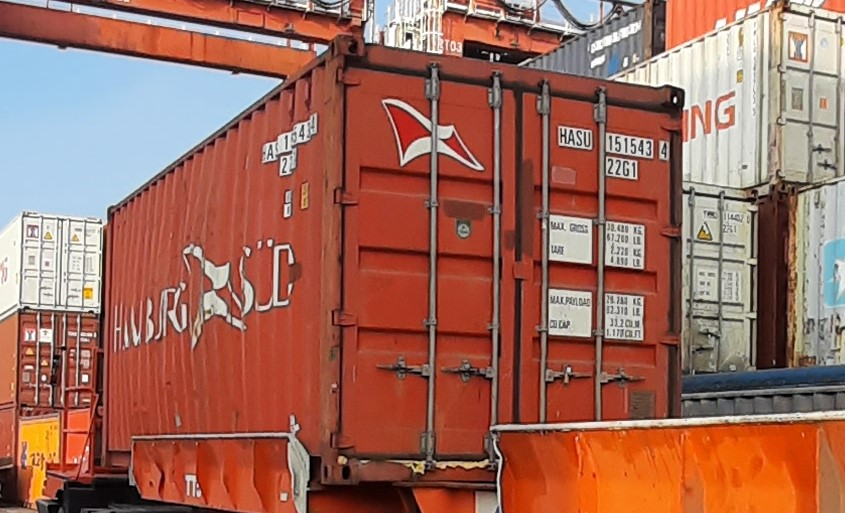moderate: (142, 244, 247, 336)
